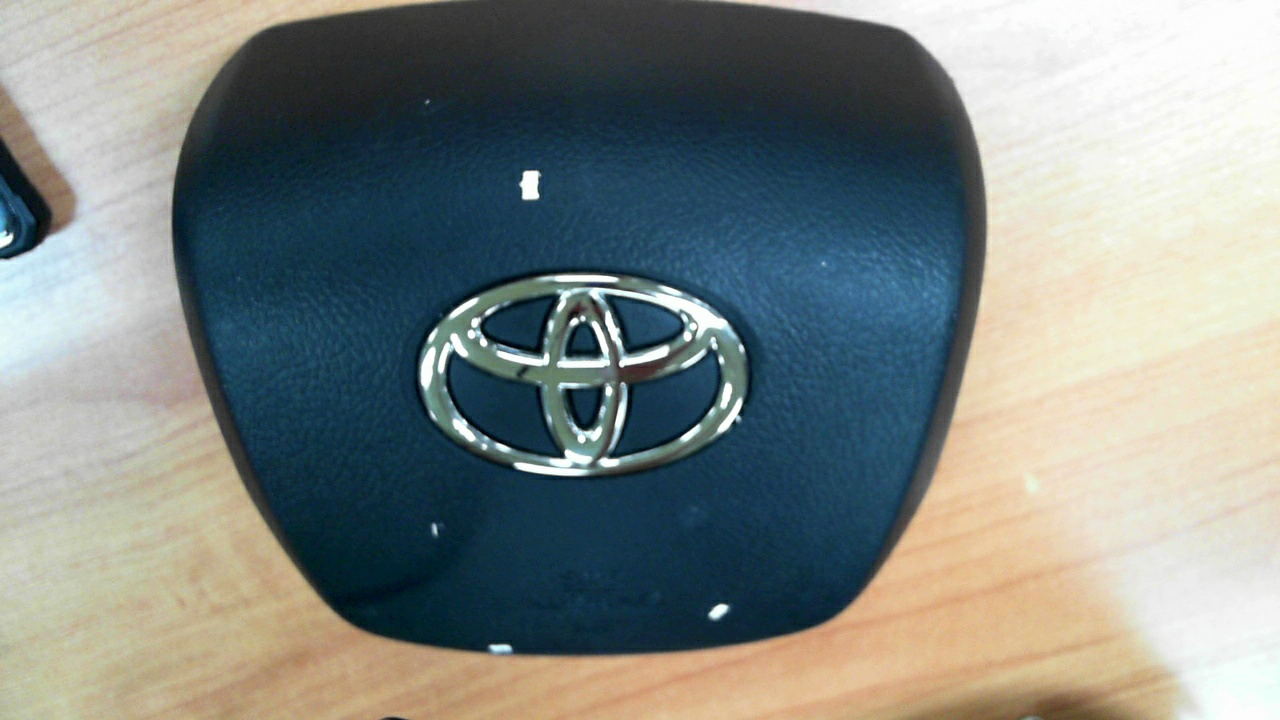Airbag: (171, 0, 989, 658)
Mark: (519, 170, 542, 201), (707, 603, 729, 620), (488, 643, 514, 655), (431, 522, 439, 537), (425, 99, 430, 105), (822, 261, 825, 265)
